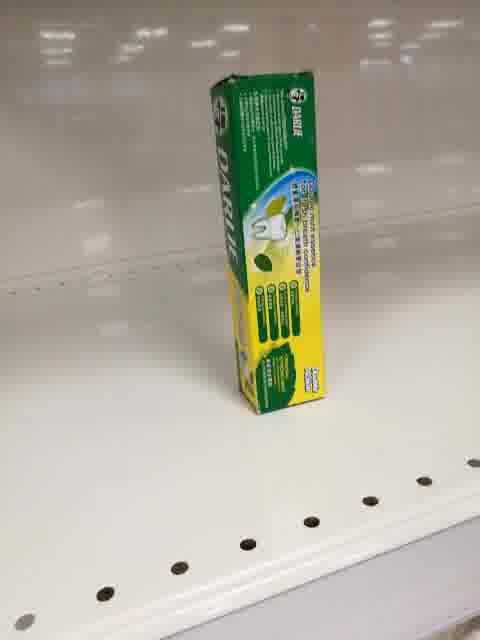toothpaste: (207, 68, 325, 416)
